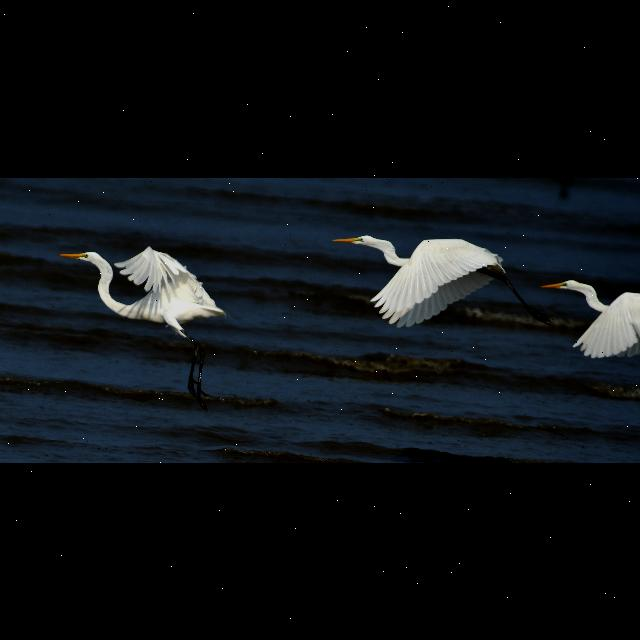egret: (54, 236, 220, 417), (331, 228, 515, 329), (538, 272, 640, 370)
